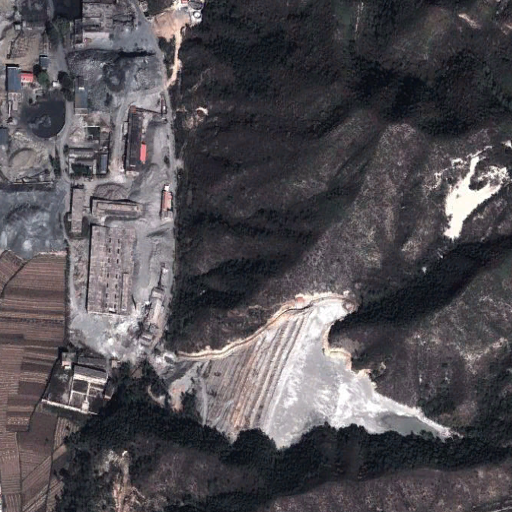tp: (173, 292, 461, 447)
